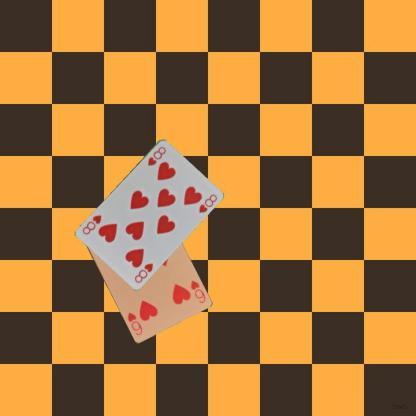6h: (187, 277, 206, 304)
8h: (132, 260, 154, 284), (145, 144, 167, 167)
